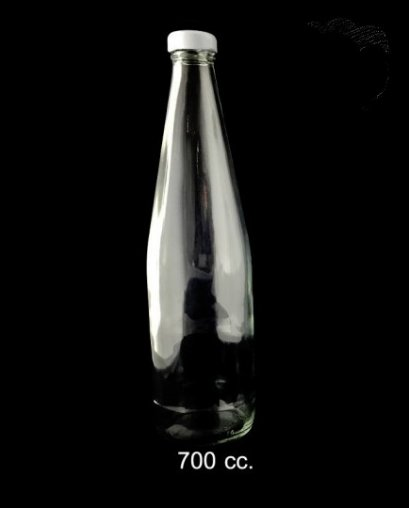glass_bottle: (107, 17, 289, 446)
